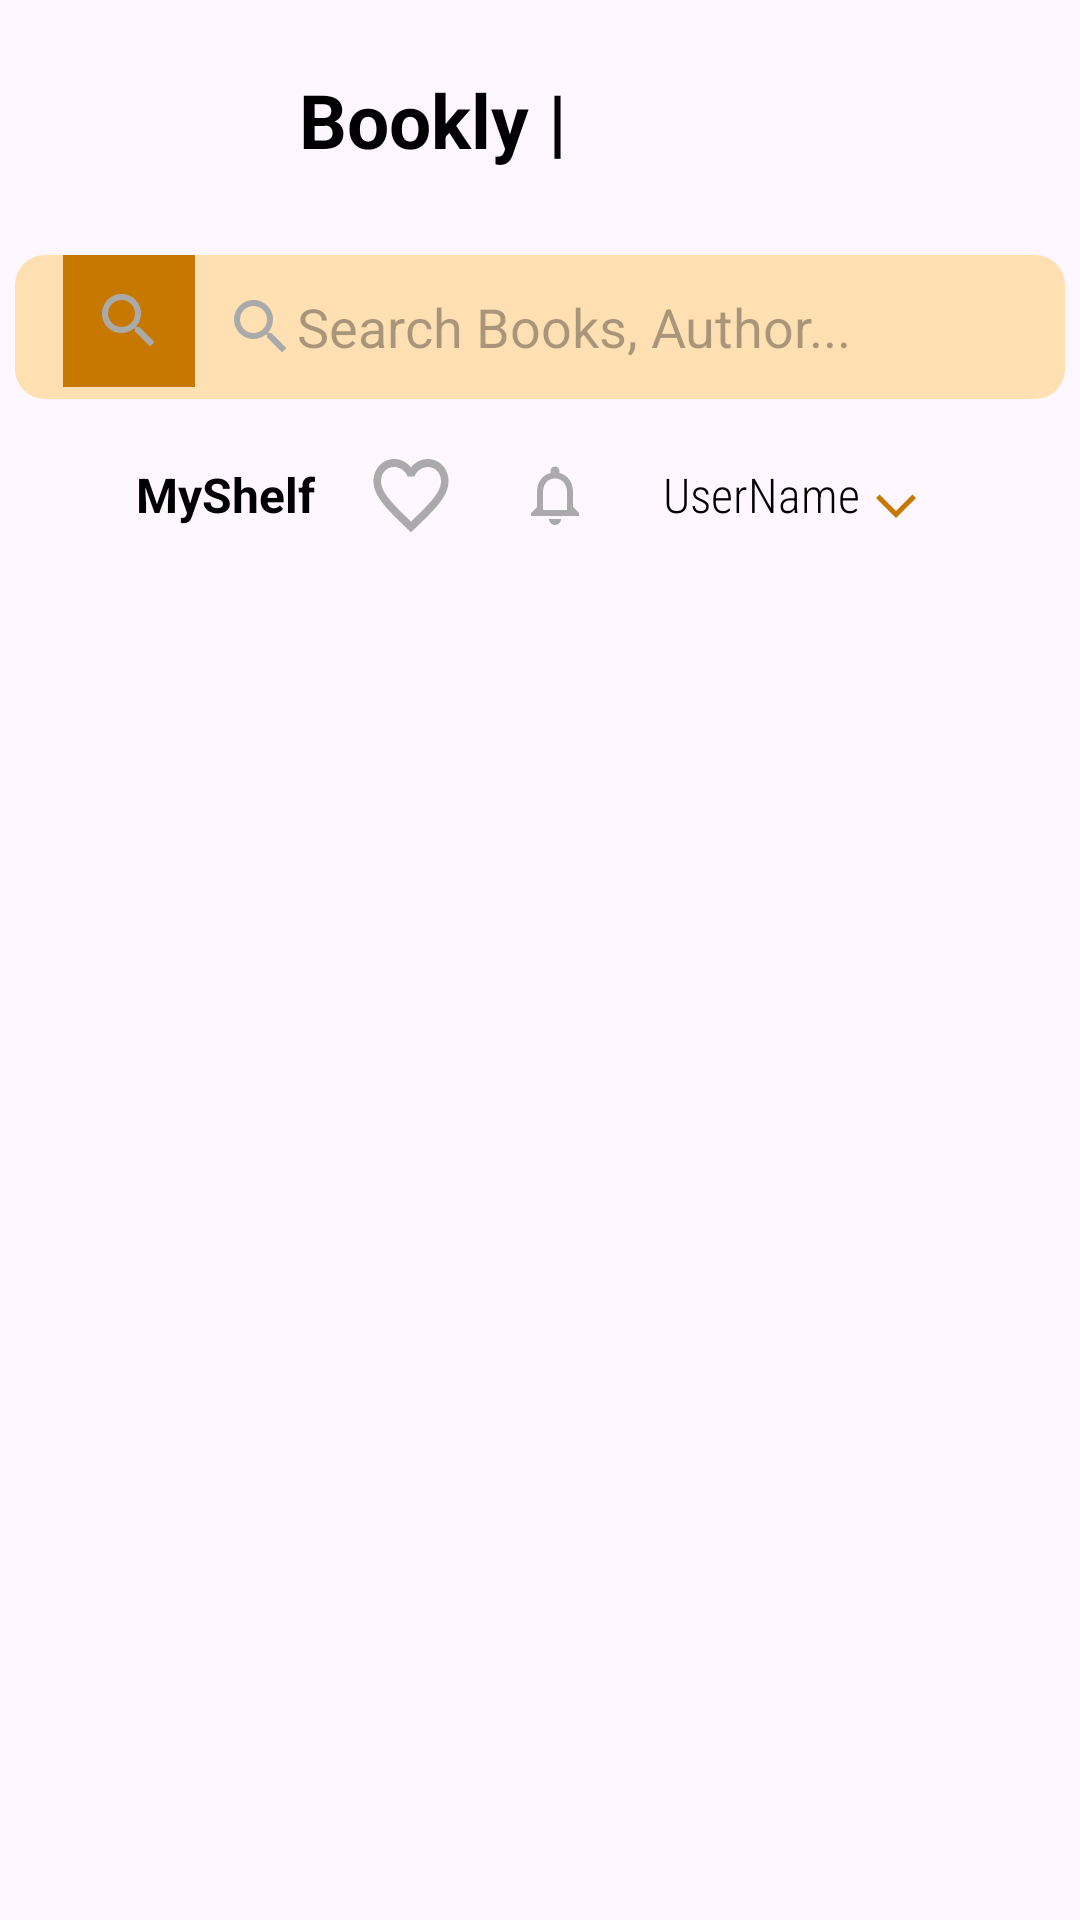

Icon bounding boxes for this 1080w x 1920h phone screenshot, format (left=x1, top=y1, right=x2, bottom=y2):
favorite border: (left=373, top=459, right=449, bottom=532)
notifications none: (left=531, top=466, right=579, bottom=525)
